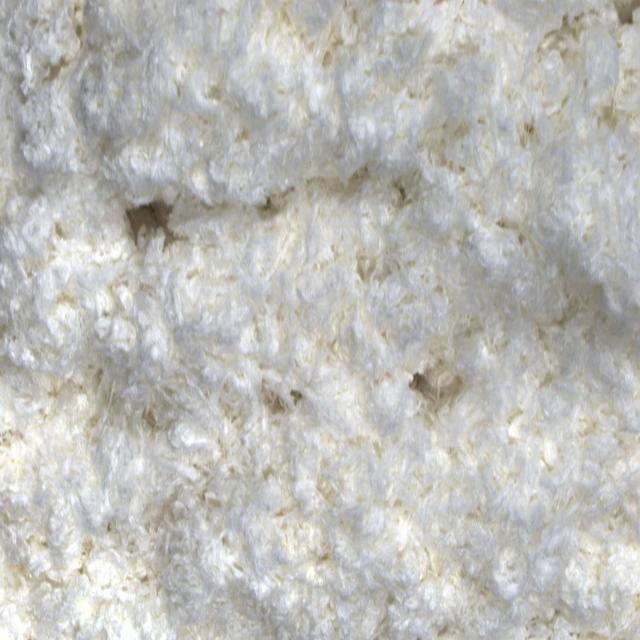dust: (127, 197, 180, 253), (610, 0, 640, 27)
